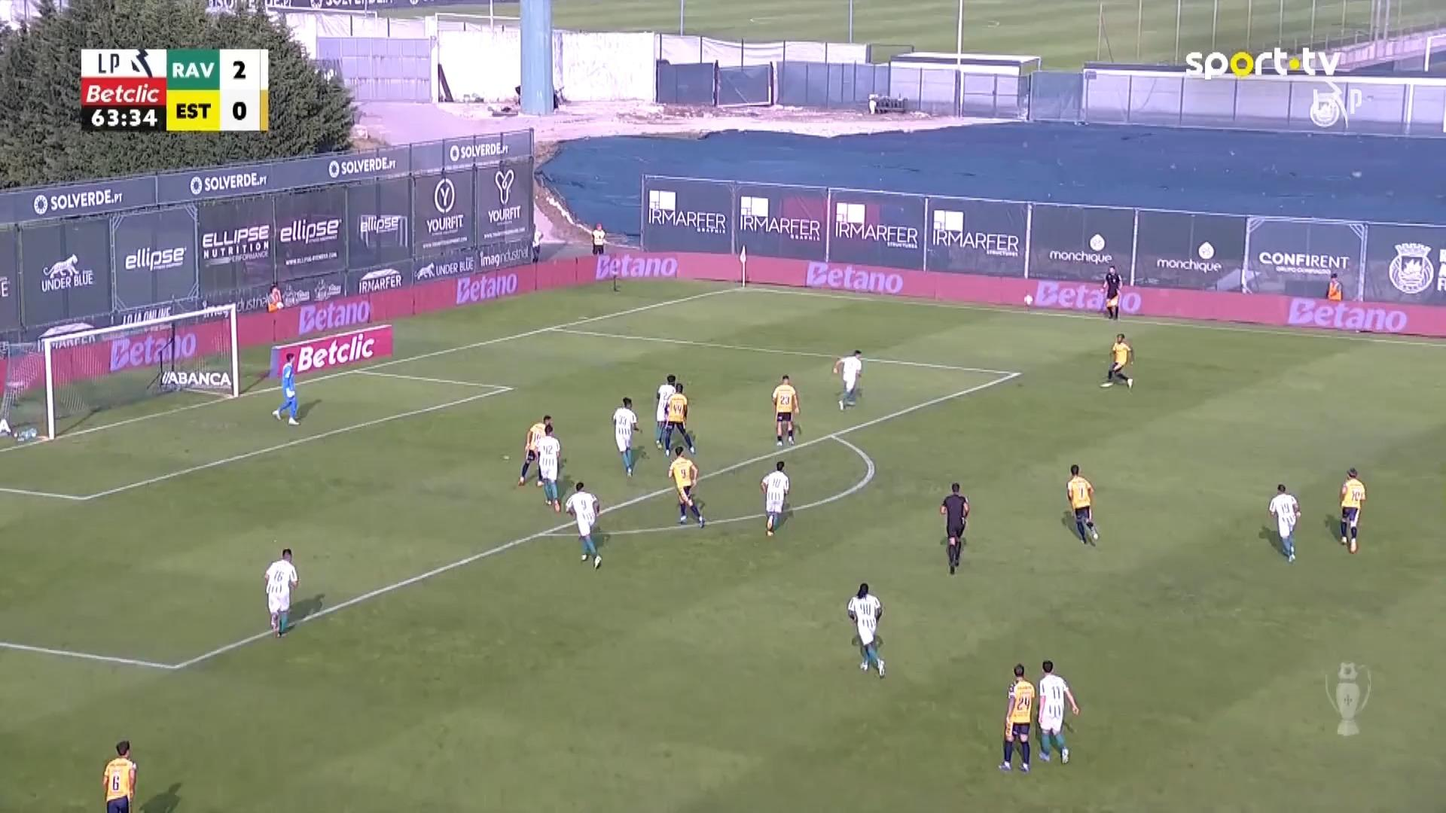goalkeeper: (272, 352, 300, 425)
player: (1036, 659, 1079, 763), (997, 662, 1036, 772), (846, 581, 886, 678), (564, 480, 603, 569), (667, 444, 706, 528), (263, 547, 298, 638), (1066, 463, 1098, 545), (516, 414, 552, 486), (661, 382, 696, 456), (534, 423, 563, 512), (1268, 483, 1300, 562), (102, 739, 137, 811), (759, 460, 790, 537), (1338, 466, 1365, 553), (611, 396, 640, 476), (770, 374, 800, 446), (831, 349, 863, 410), (1100, 332, 1133, 388), (654, 373, 677, 450)
referee: (939, 481, 969, 574), (1101, 263, 1122, 318)
